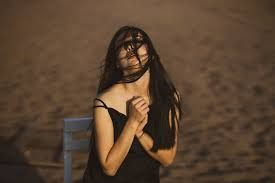no-mask: (99, 23, 166, 80)
